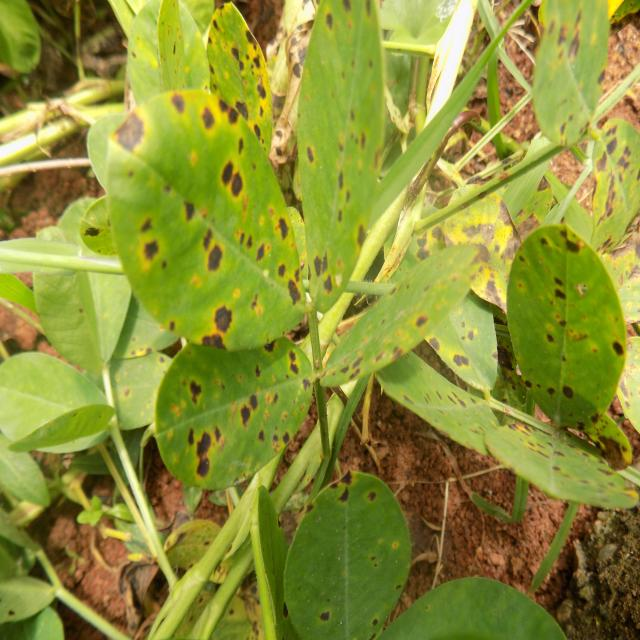Ground nut_tikka leaf spot: (106, 81, 306, 351), (296, 3, 384, 312), (506, 224, 627, 436), (154, 348, 318, 492), (282, 468, 413, 640)
